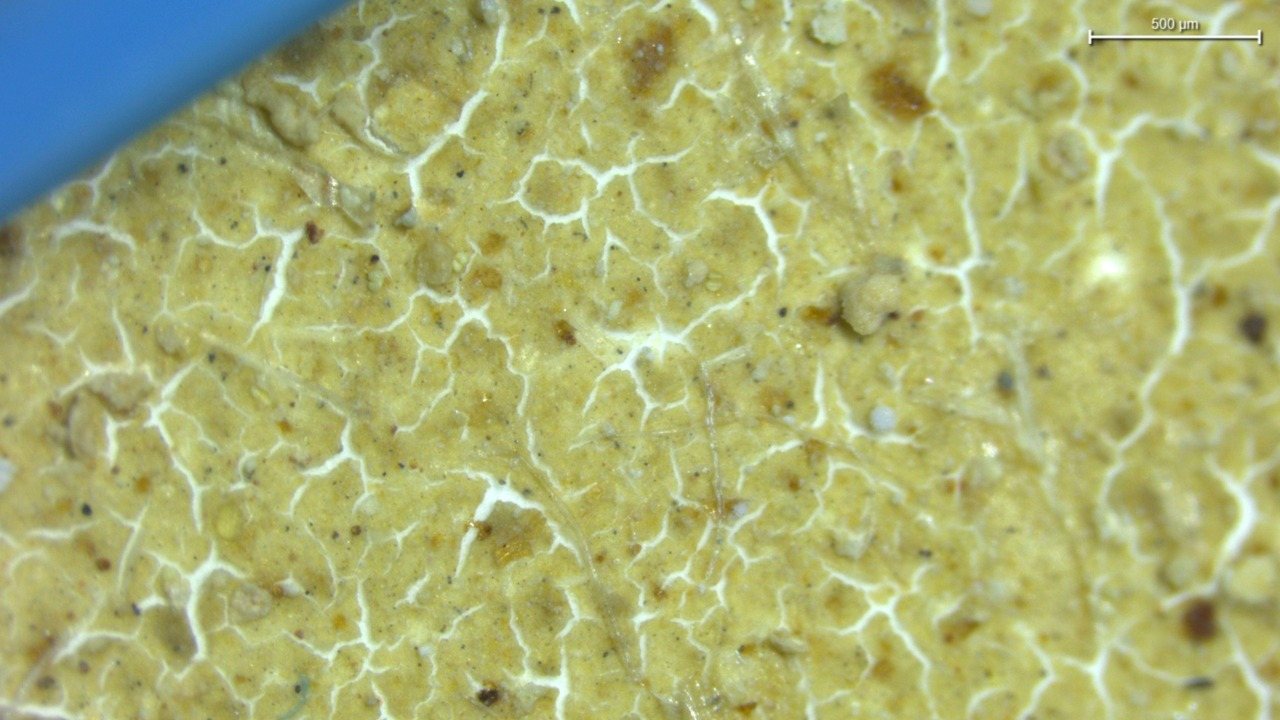microplastic_fragment: (245, 80, 319, 149), (840, 273, 902, 335), (811, 0, 847, 46), (870, 406, 897, 433)
